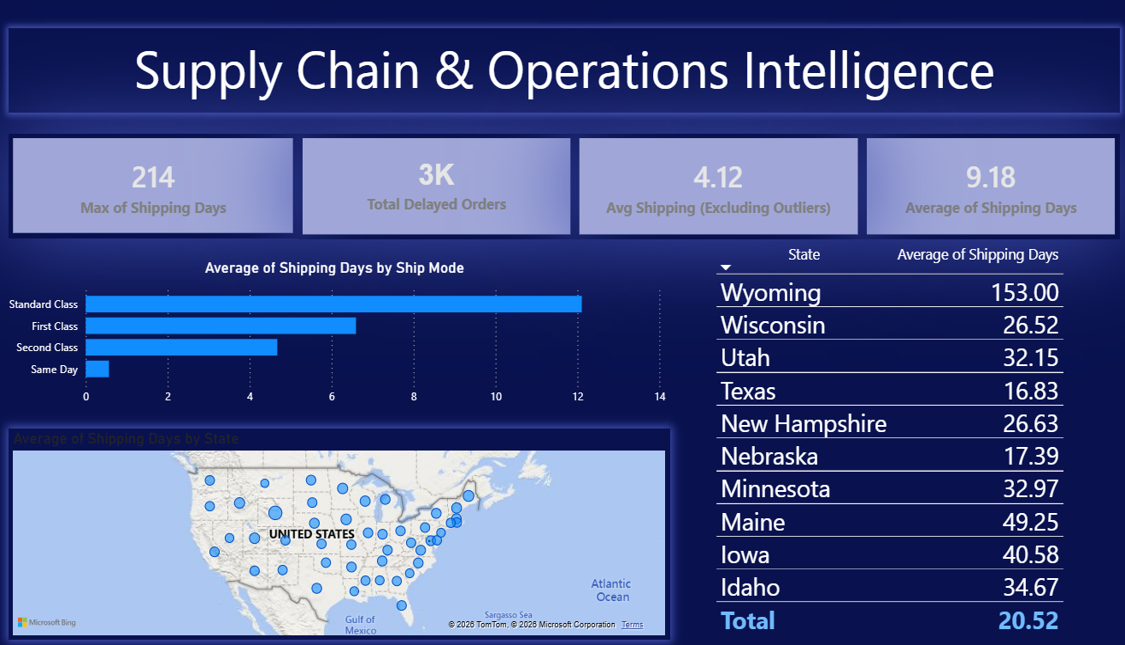

The dashboard page shown, as its layout file describes it:
{"tool":"powerbi","page":{"name":"Supply Chain & Operations","canvas":[1280,720],"ordinal":0},"visuals":[{"type":"cardVisual","fields":{"Data":["Avg(Cleaned_Data.Shipping Days)"]},"box":[974.8,149.6,290.8,115.8],"z":0},{"type":"cardVisual","fields":{"Data":["Max(Cleaned_Data.Shipping Days)"]},"box":[10.9,149.6,326.9,114.6],"z":1000},{"type":"cardVisual","fields":{"Data":["Cleaned_Data.Total Delayed Orders"]},"box":[337.8,149.6,312.5,115.8],"z":2000},{"type":"cardVisual","fields":{"Data":["Cleaned_Data.Avg Shipping (Excluding Outliers)"]},"box":[650.3,149.6,324.5,115.8],"z":3000},{"type":"clusteredBarChart","fields":{"Category":["Cleaned_Data.Ship Mode"],"Y":["Avg(Cleaned_Data.Shipping Days)"]},"box":[0,285.9,757.6,170.1],"z":4000},{"type":"map","fields":{"Category":["Cleaned_Data.State"],"Size":["Avg(Cleaned_Data.Shipping Days)"]},"box":[11,473.4,746.5,231.9],"z":5000},{"type":"tableEx","fields":{"Values":["Cleaned_Data.State","Avg(Cleaned_Data.Shipping Days)"]},"box":[803.5,265.4,476.5,454.8],"z":6000},{"type":"textbox","box":[10.9,33.8,1254.7,92.9],"z":6001}]}

Visuals, with their boxes in screenshot pixels (x1, y1, x2, y2), scaled from the page's 1280x720 canvas onto the 1125x645 screenshot:
cardVisual - Avg(Cleaned_Data.Shipping Days): 857 134 1112 238
cardVisual - Max(Cleaned_Data.Shipping Days): 10 134 297 237
cardVisual - Cleaned_Data.Total Delayed Orders: 297 134 572 238
cardVisual - Cleaned_Data.Avg Shipping (Excluding Outliers): 572 134 857 238
clusteredBarChart - Cleaned_Data.Ship Mode x Avg(Cleaned_Data.Shipping Days): 0 256 666 408
map - Cleaned_Data.State x Avg(Cleaned_Data.Shipping Days): 10 424 666 632
tableEx - Cleaned_Data.State x Avg(Cleaned_Data.Shipping Days): 706 238 1124 644
textbox: 10 30 1112 114
